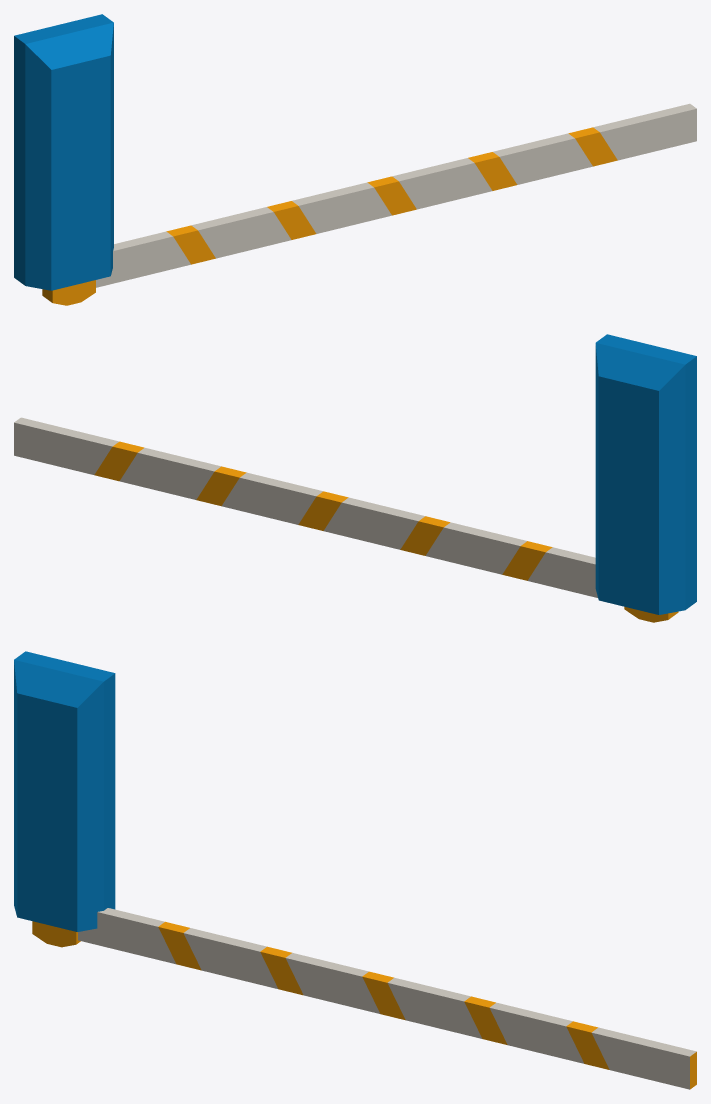
Rendered from SM_barrier_01.glb.
The picture shows the model from 3 angles, top to bottom: view 1: azimuth 30°, elevation 25°; view 2: azimuth 150°, elevation 25°; view 3: azimuth 330°, elevation 25°; orthographic projection.
Parts seen in each view (by area): view 1: SM_barrier_01, barrier_A; view 2: SM_barrier_01, barrier_A; view 3: SM_barrier_01, barrier_A.
Part boxes in pixels (<box>): SM_barrier_01: <box>14,14,113,290</box>; barrier_A: <box>42,103,696,305</box>; SM_barrier_01: <box>595,334,696,614</box>; barrier_A: <box>14,417,678,622</box>; SM_barrier_01: <box>14,651,115,931</box>; barrier_A: <box>32,908,696,1089</box>.
Bounding box in the file's own units: 2.22 × 0.8478 × 0.1969.
1 material, 1 textured.
